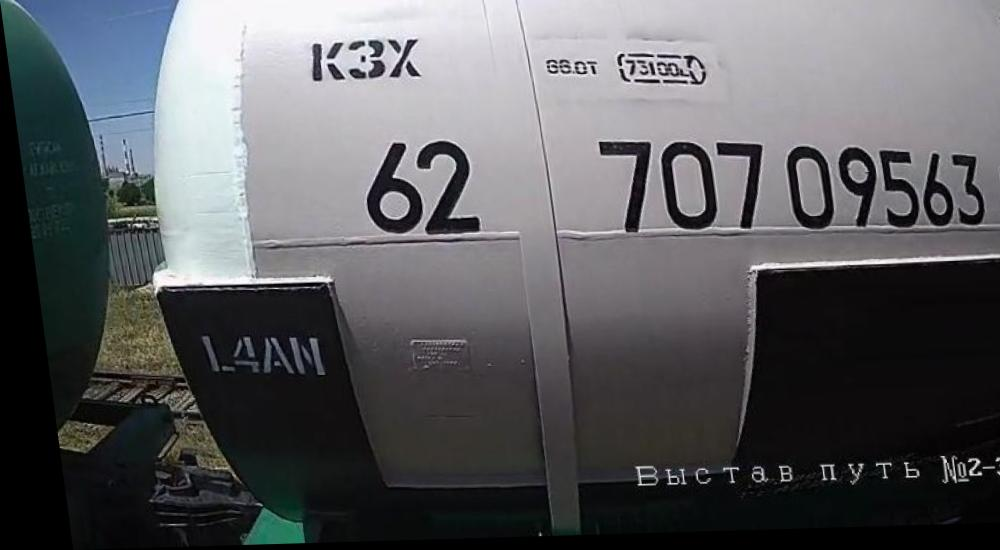Wagon-number: (586, 131, 985, 241)
